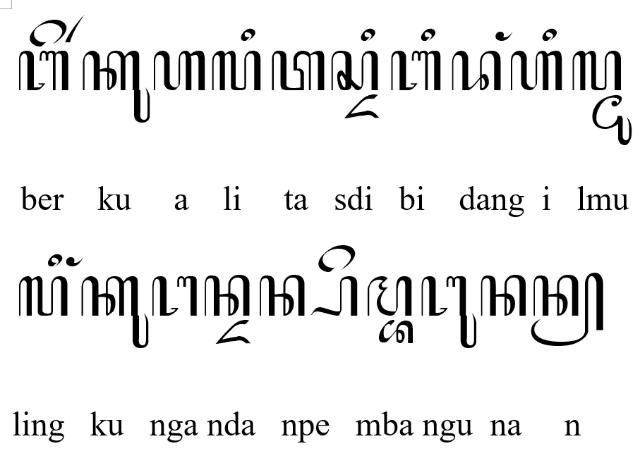-n: (530, 272, 604, 348)
_b: (378, 320, 414, 344)
_d: (344, 94, 381, 120), (216, 318, 250, 346)
_mu: (592, 94, 632, 146)
_p: (310, 275, 358, 317)
_r1: (64, 15, 86, 43)
b: (16, 50, 70, 92), (390, 50, 442, 92)
d: (451, 50, 503, 90)
e: (317, 243, 355, 272), (29, 19, 67, 47)
h: (510, 49, 564, 91), (152, 50, 205, 92)
i: (240, 27, 256, 41), (360, 28, 376, 42), (420, 28, 436, 42), (542, 27, 556, 42), (48, 254, 62, 268)
ku: (80, 275, 150, 349), (81, 49, 150, 123)
l: (210, 49, 262, 91), (571, 49, 623, 91), (18, 276, 68, 318)
m: (368, 276, 412, 316)
n: (258, 274, 306, 318), (203, 274, 250, 318), (479, 274, 526, 318)
ng: (494, 30, 512, 42), (66, 257, 84, 269)
nga: (152, 276, 198, 316)
ngu: (419, 275, 476, 349)
s: (330, 50, 380, 92)
t: (270, 50, 326, 90)
